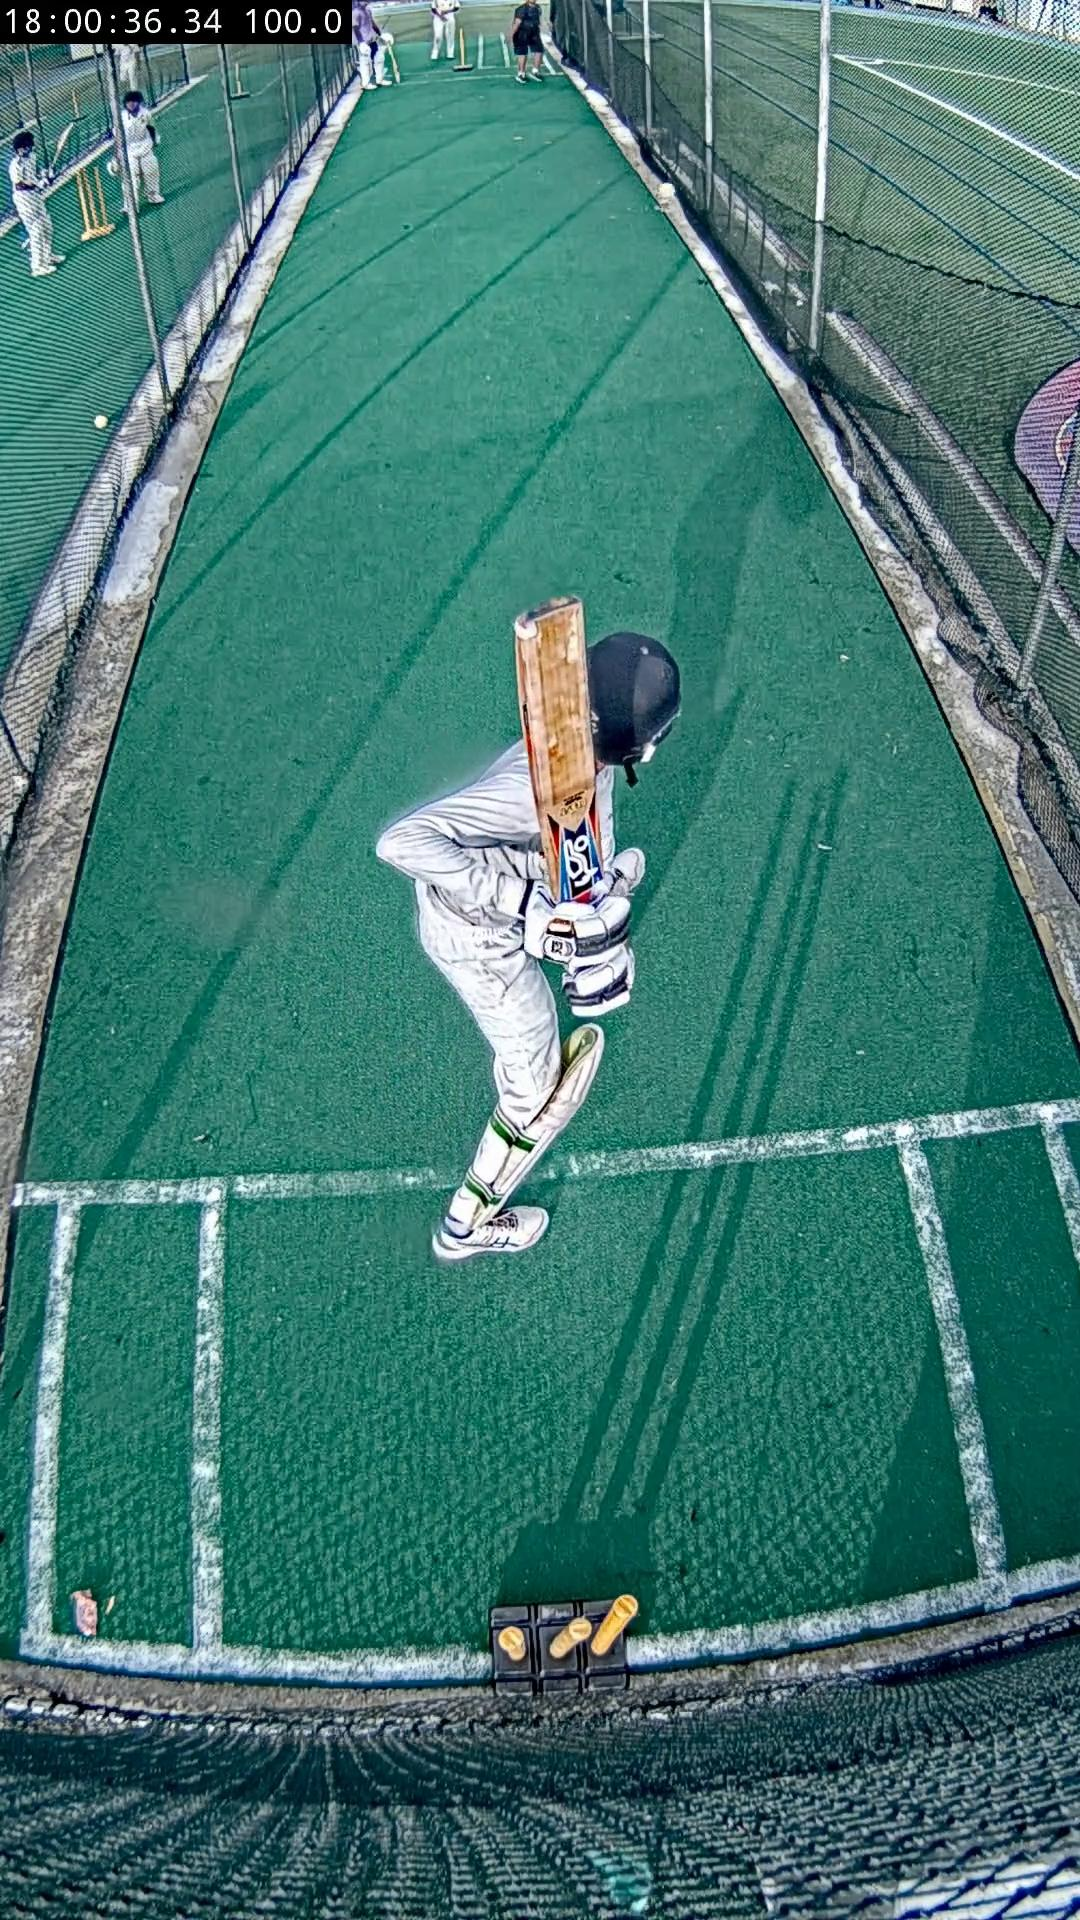ball: (657, 183, 675, 200)
bat: (514, 596, 604, 903)
gloves: (521, 893, 634, 1017)
helmet: (588, 634, 679, 765)
pads: (488, 1023, 604, 1217)
stumps: (492, 1594, 637, 1695)
